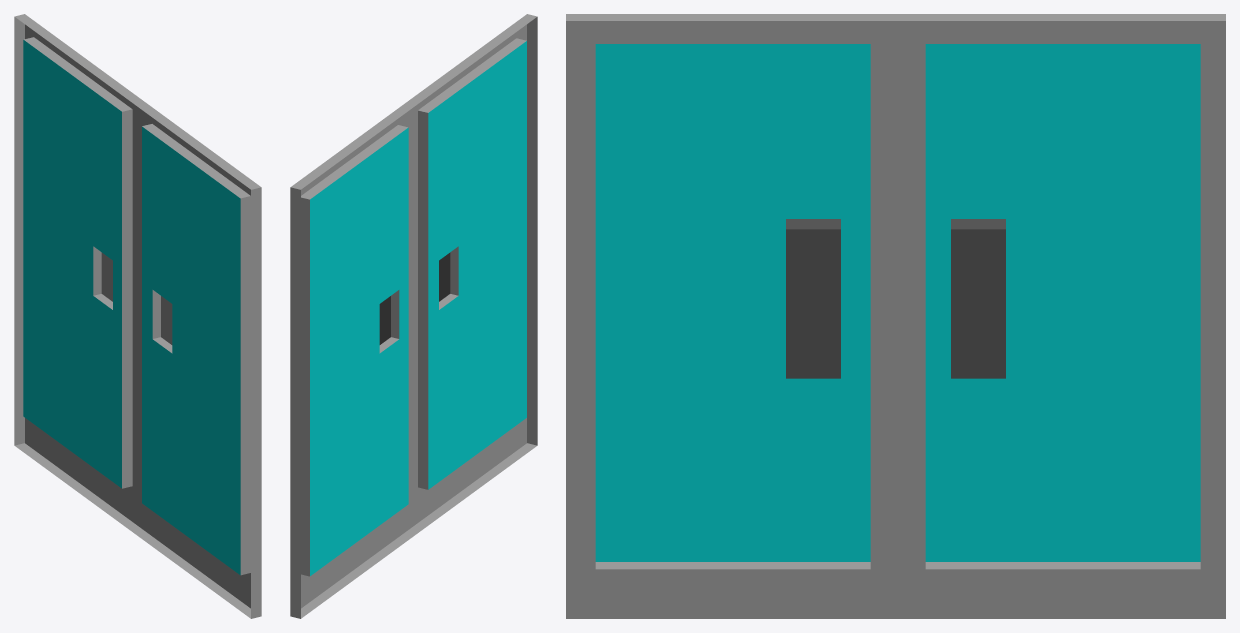
Rendered from kitsch_wall_door_01_LOD0.fbx.
The picture shows the model from 3 angles, left to right: view 1: azimuth 30°, elevation 25°; view 2: azimuth 150°, elevation 25°; view 3: azimuth 270°, elevation 25°; orthographic projection. The views are drawn at different scales.
Parts seen in each view (by area): view 1: kitsch_wall_door_01_LOD0; view 2: kitsch_wall_door_01_LOD0; view 3: kitsch_wall_door_01_LOD0.
Boxes of the visible parts, x1,y1,x2,y2 form: kitsch_wall_door_01_LOD0: (14, 14, 261, 618); kitsch_wall_door_01_LOD0: (290, 14, 537, 618); kitsch_wall_door_01_LOD0: (566, 14, 1225, 618).
Bounding box in the file's own units: 0.1707 × 3 × 3.
